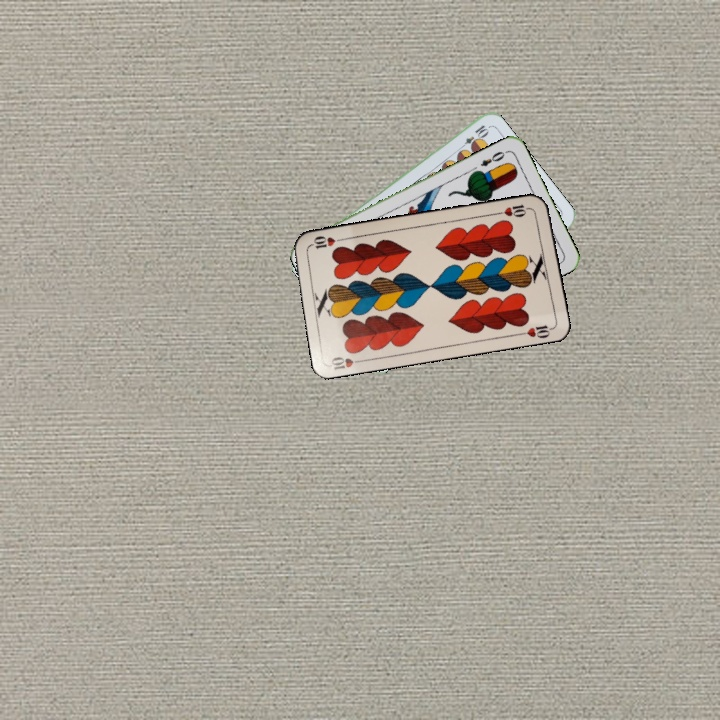E10: (455, 121, 491, 153)
EO: (476, 146, 510, 169)
H10: (493, 200, 534, 220), (327, 353, 368, 372)
